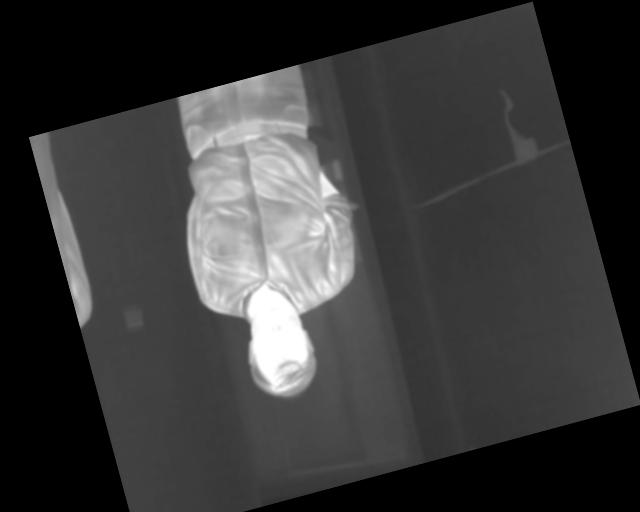face: (232, 288, 326, 407)
